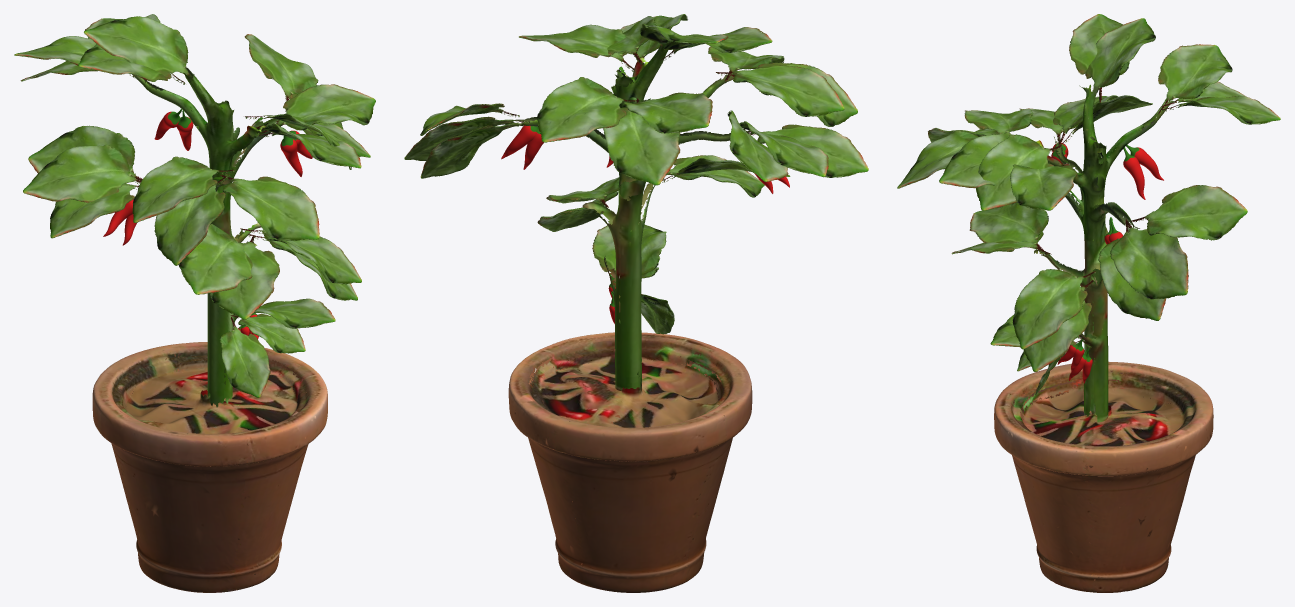
Rendered from chilli_optimized.glb.
3 views of the same model, side by side, from view 1: azimuth 30°, elevation 25°; view 2: azimuth 150°, elevation 25°; view 3: azimuth 270°, elevation 25° (orthographic). The views are drawn at different scales.
Parts seen in each view (by area): view 1: pot, chilli; view 2: pot, chilli; view 3: pot, chilli.
Boxes of the visible parts, <box> form: pot: <box>14,14,375,592</box>; chilli: <box>103,108,312,339</box>; pot: <box>404,14,868,592</box>; chilli: <box>501,125,789,323</box>; pot: <box>897,14,1280,592</box>; chilli: <box>1051,142,1163,383</box>.
Size of the model in its own units: 1.41 by 2 by 1.38.
Materials: 2 (2 with a texture image).
